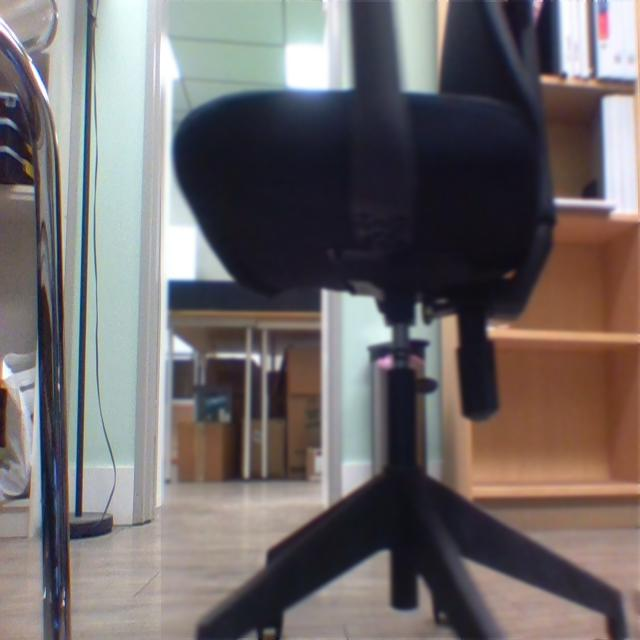black-chair: (161, 2, 639, 639)
